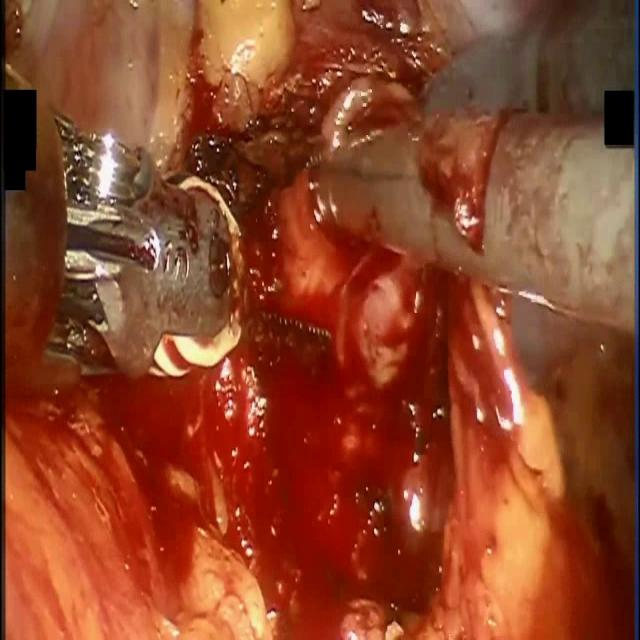surgical-area: (0, 0, 636, 639)
surgical-tool: (4, 93, 249, 402), (304, 105, 635, 332)
